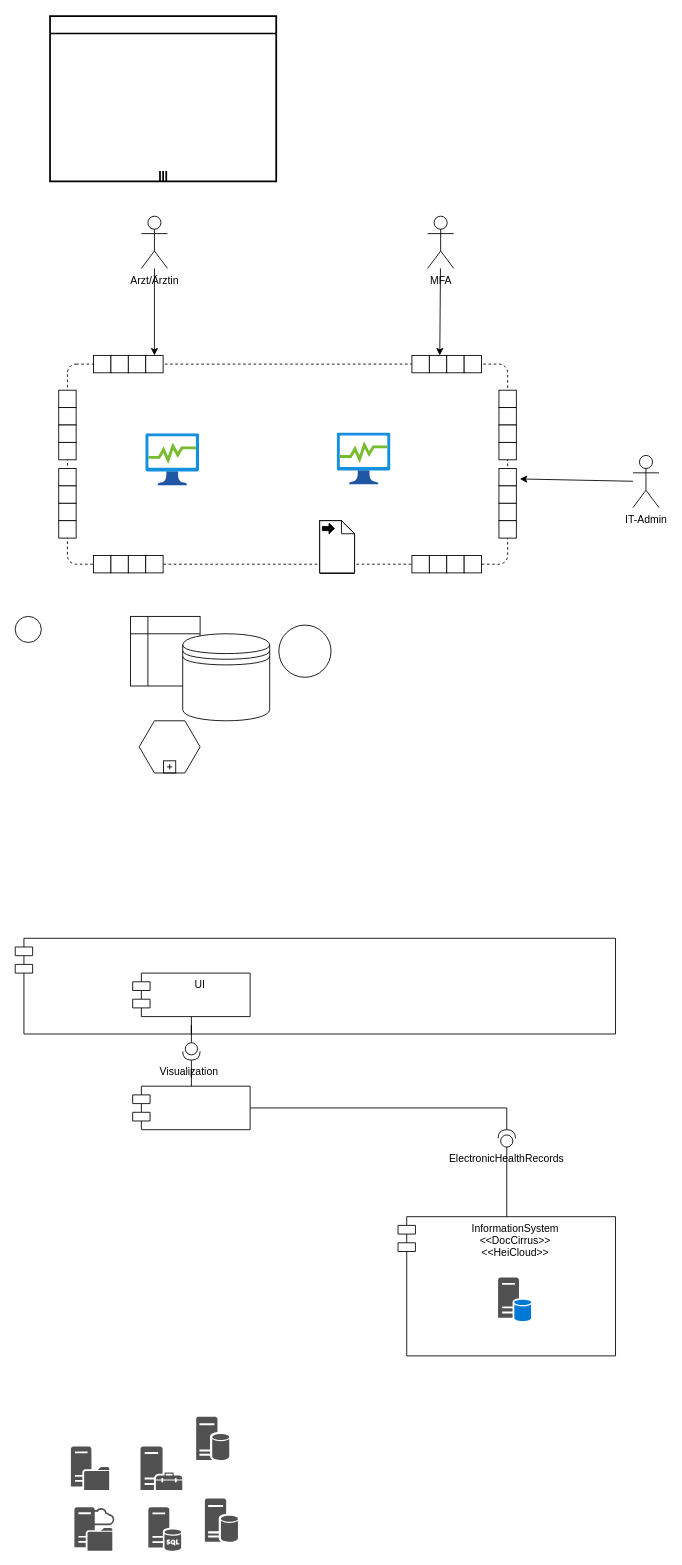
This 682x1565 diagram has some shape labels left out. The shapes that lost their labels are listed below. From the top down, each one's box as (x1, y1, x2, y2) in pixels, then its label:
(67, 363, 508, 564): <<Experimentalpraxis>>
(14, 937, 616, 1034): MedicalApp
(132, 1085, 250, 1130): ProcessController
